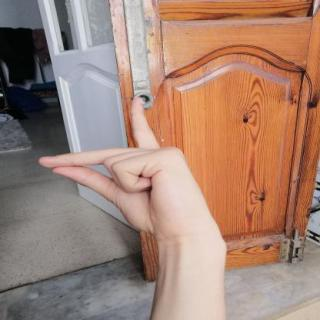TAA: (28, 89, 222, 246)
